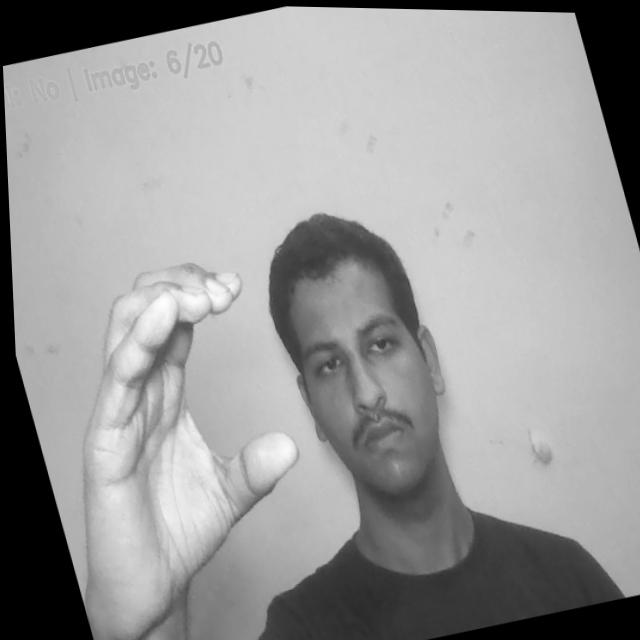No: (9, 245, 320, 599)
